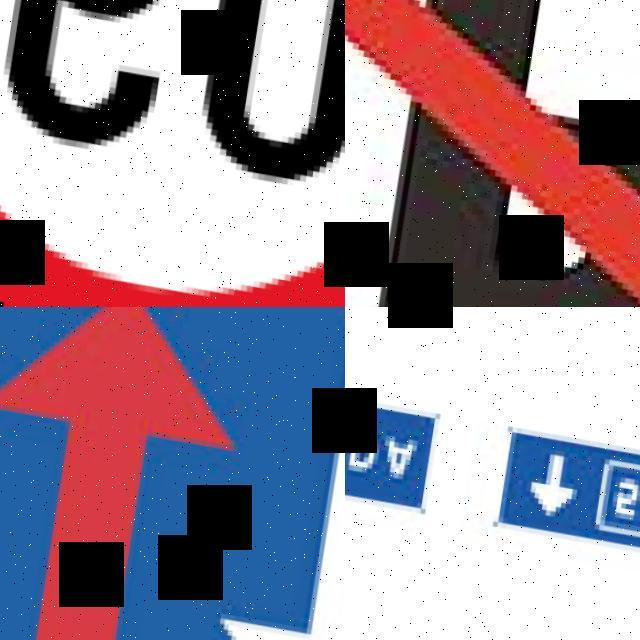67: (345, 377, 640, 585)
No parking: (345, 0, 640, 307)
Priority over oncoming vehicles: (0, 307, 345, 640)
speed limit-60: (0, 0, 345, 307)
